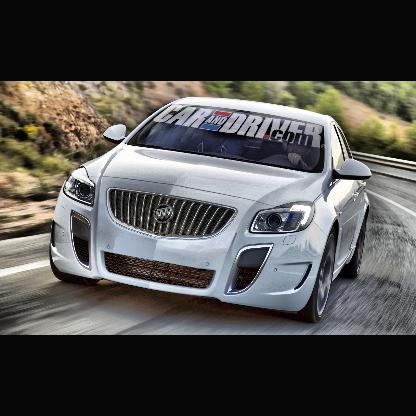Buick Regal GS 2012: (50, 96, 370, 322)
